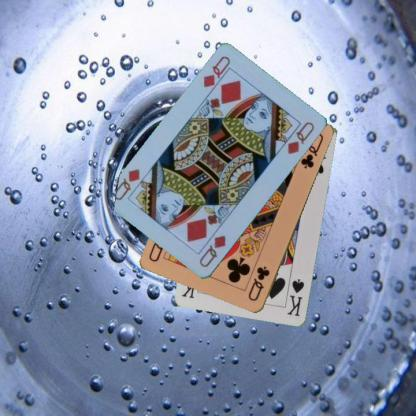Ks: (284, 276, 306, 318)
Qc: (246, 264, 271, 303)
Qd: (200, 53, 232, 96), (196, 233, 230, 269)
